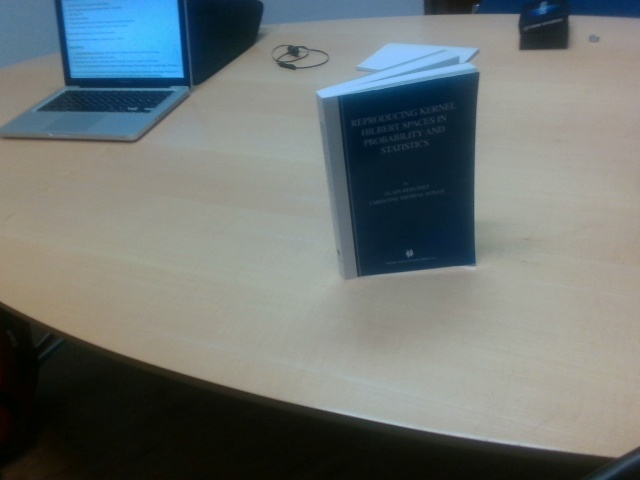book: (321, 98, 478, 266)
